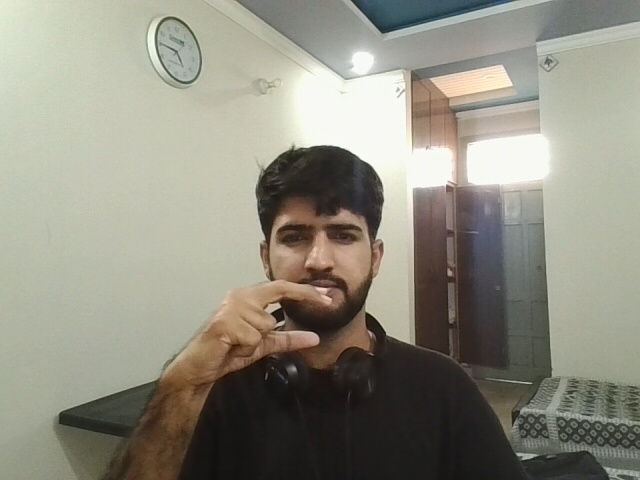No: (170, 278, 345, 398)
